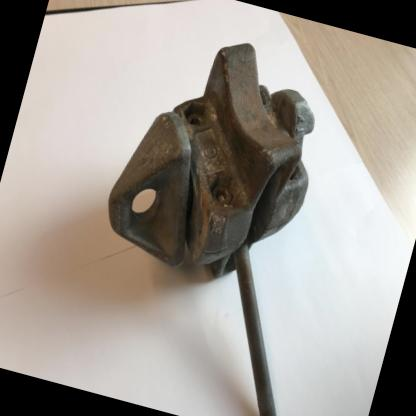Twistlock: (57, 13, 379, 415)
